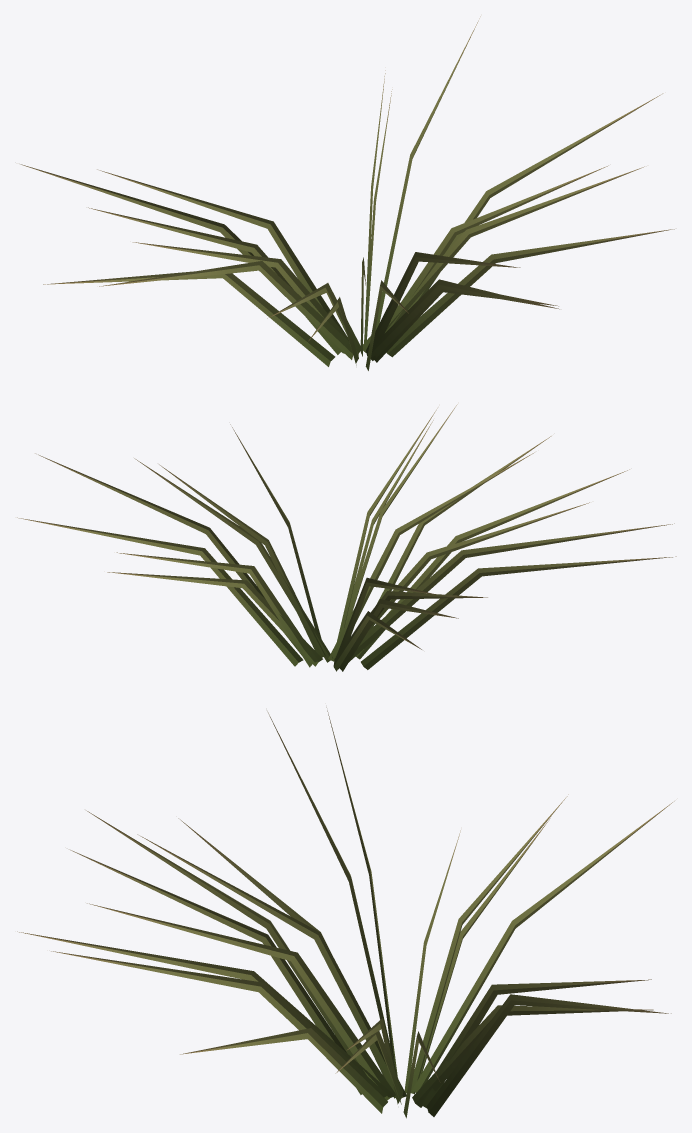
File: grass-fountain.lod1.glb
3 views of the same model, one above another, from view 1: azimuth 30°, elevation 25°; view 2: azimuth 150°, elevation 25°; view 3: azimuth 270°, elevation 25° (orthographic). The views are drawn at different scales.
Visible parts, largest first — view 1: grass_fountain_mesh; view 2: grass_fountain_mesh; view 3: grass_fountain_mesh.
Boxes of the visible parts, box(x1,y1,x2,y2) form: grass_fountain_mesh: box(20, 16, 674, 370); grass_fountain_mesh: box(17, 404, 676, 671); grass_fountain_mesh: box(17, 707, 674, 1118).
Bounding box in the file's own units: 1.62 × 0.4468 × 1.22.
1 material, 1 textured.
